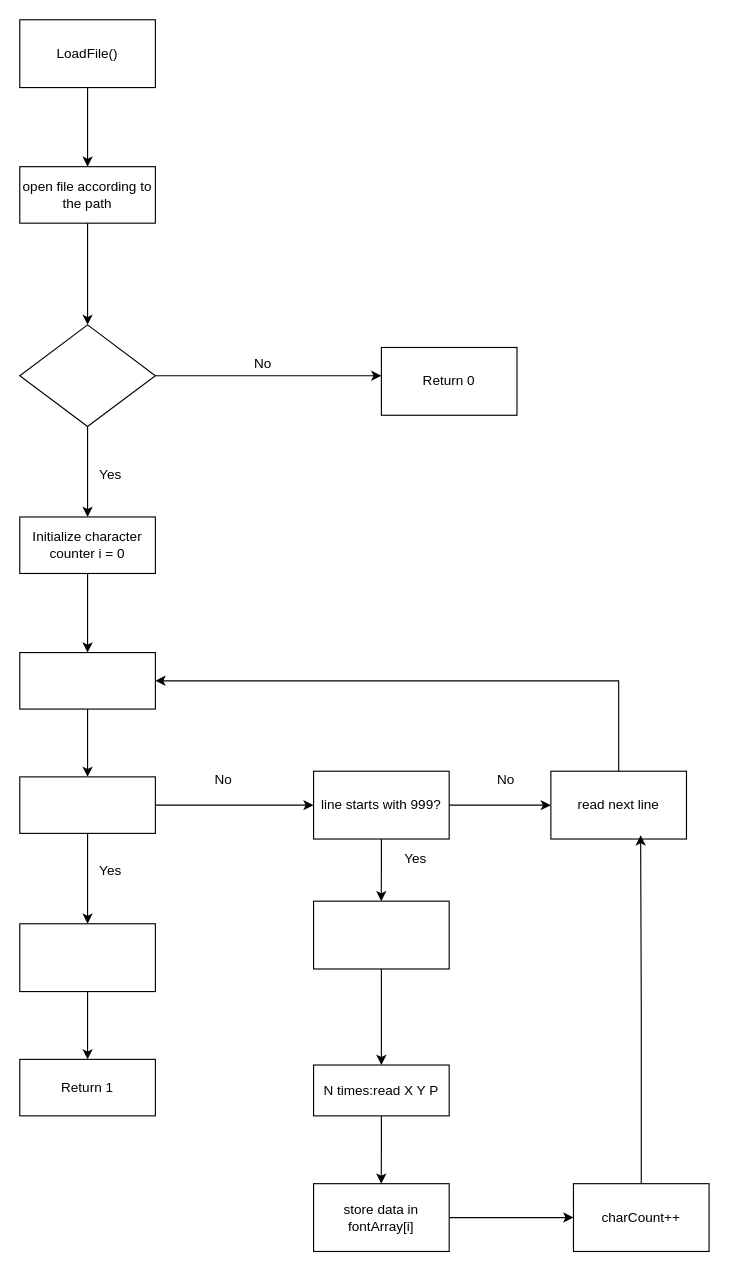
Image size: 729x1271. Some labels were removed from this diagram. Each missing label, with the box of its shape:
close file: (19, 923, 155, 992)
open successfully?: (19, 324, 155, 427)
reach the end of line?: (19, 776, 155, 833)
Read C and N values: (312, 900, 449, 969)
Read line from fontfile: (19, 651, 155, 709)
